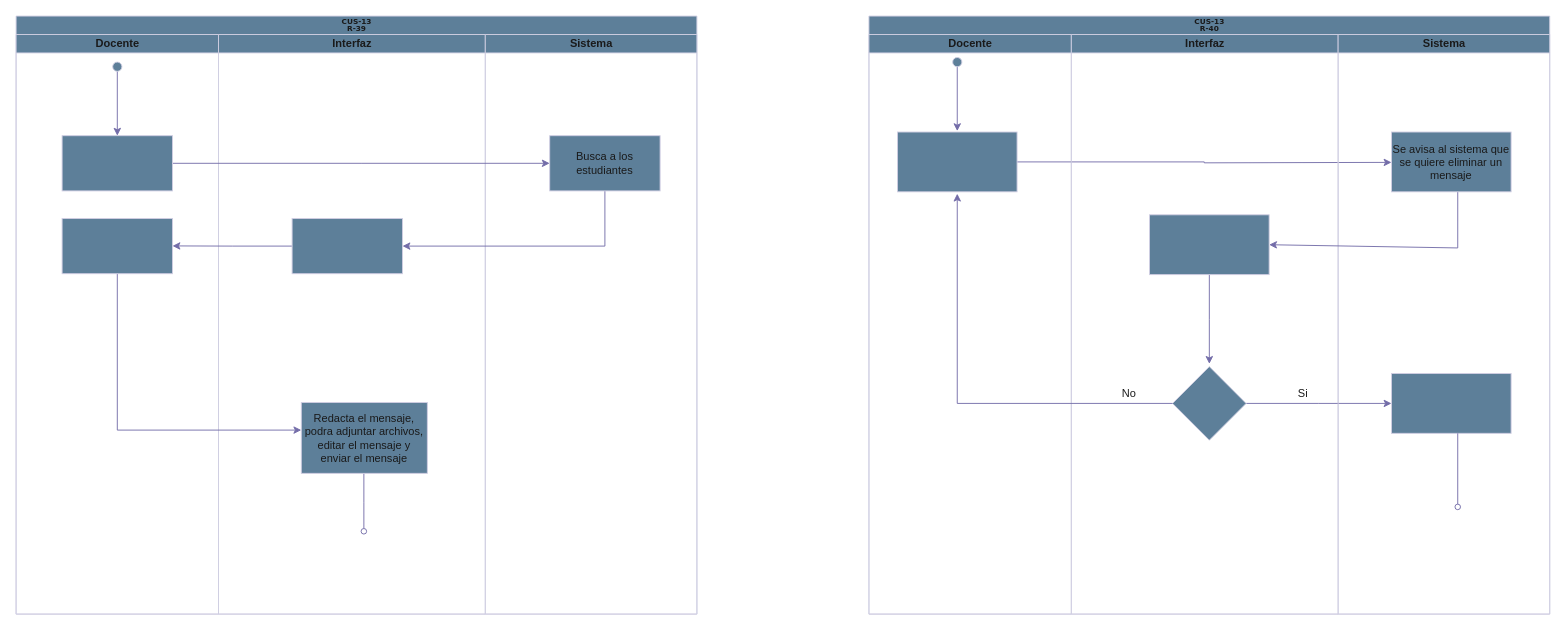
The diagram is 1566 pixels wide and 630 high, and some of its shapes have lost their labels. Each missing label, with the box of its shape:
Accede a los mensajes: (61, 135, 172, 191)
Aparece un modal: "Estas seguro de eliminar el mensaje?": (1149, 214, 1269, 275)
El docente selecciona el boton de "Eliminar mensaje": (897, 131, 1017, 192)
Interfaz de todos los estudiantes: (291, 218, 402, 274)
Se elimina el mensaje: (1391, 373, 1511, 433)
Selecciona al estudiante: (61, 218, 172, 274)
